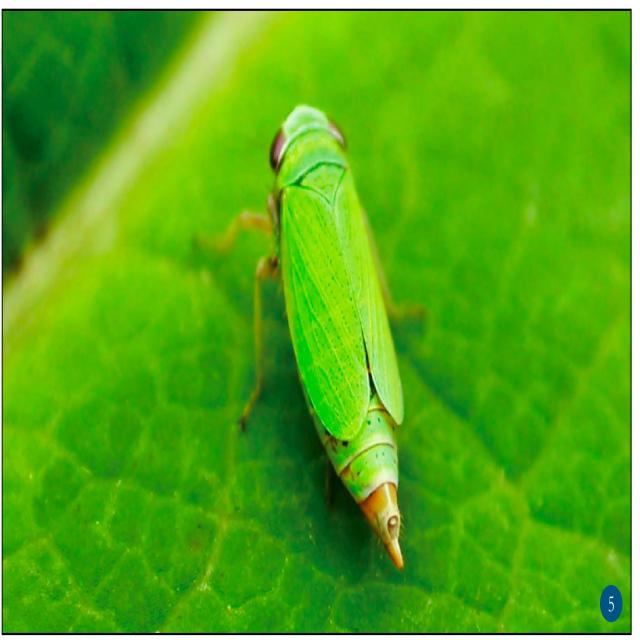Yechan: (237, 92, 424, 576)
